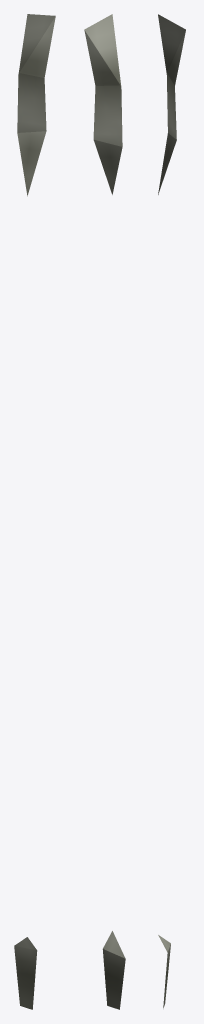
The picture shows the model from 3 angles, left to right: view 1: azimuth 30°, elevation 25°; view 2: azimuth 210°, elevation 25°; view 3: azimuth 330°, elevation 25°; orthographic projection.
Bounding box in the file's own units: 0.0156 × 0.5223 × 0.0126.
1 material, 1 textured.
